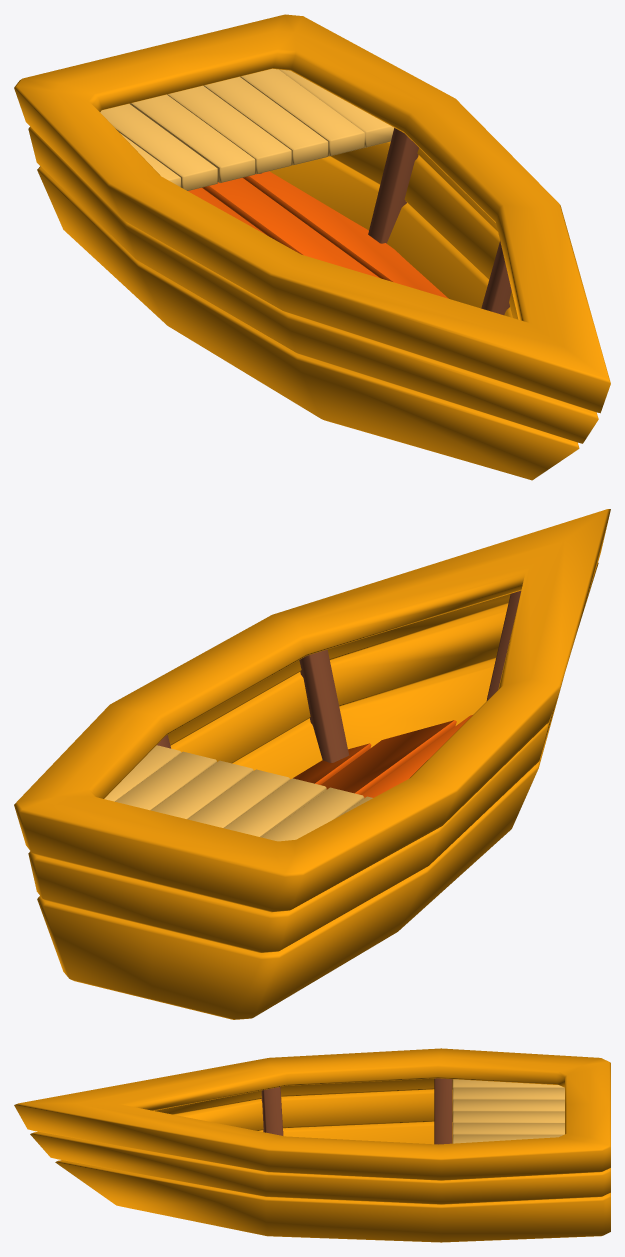
The model's file is Ship.fbx.
The picture shows the model from 3 angles, top to bottom: view 1: azimuth 30°, elevation 25°; view 2: azimuth 150°, elevation 25°; view 3: azimuth 270°, elevation 25°; orthographic projection. The views are drawn at different scales.
Parts seen in each view (by area): view 1: Ship; view 2: Ship; view 3: Ship.
Boxes of the visible parts, box(x1,y1,x2,y2) form: Ship: box(14, 14, 610, 480); Ship: box(14, 509, 610, 1019); Ship: box(14, 1048, 610, 1242).
Size of the model in its own units: 700 by 381 by 1592.
